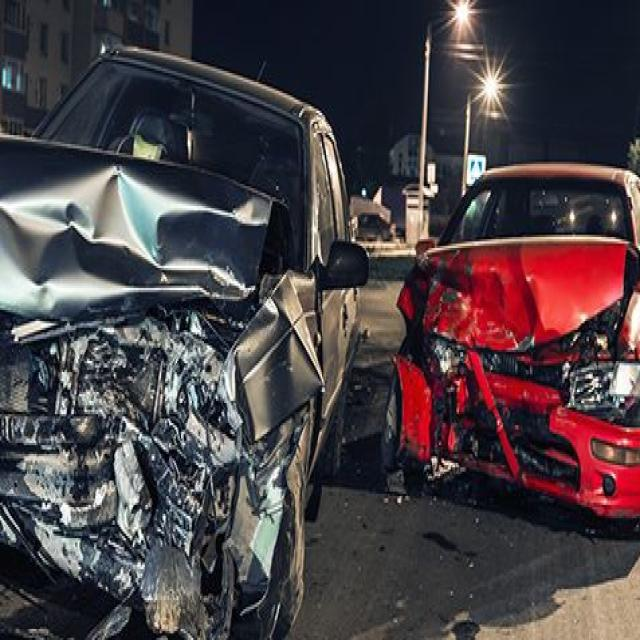crush: (0, 135, 324, 640), (392, 242, 640, 515)
